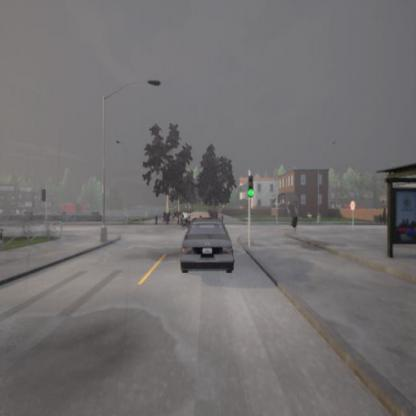traffic_light_green: (246, 174, 253, 197)
vehicle: (180, 219, 236, 274)
